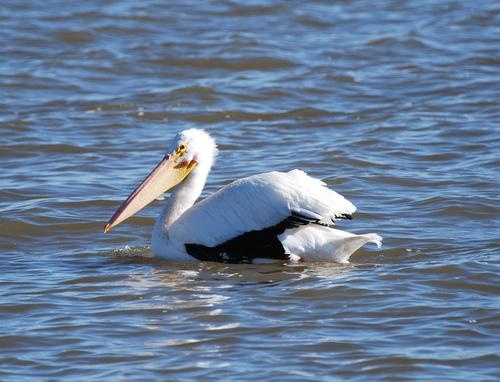bird: (97, 125, 380, 269)
